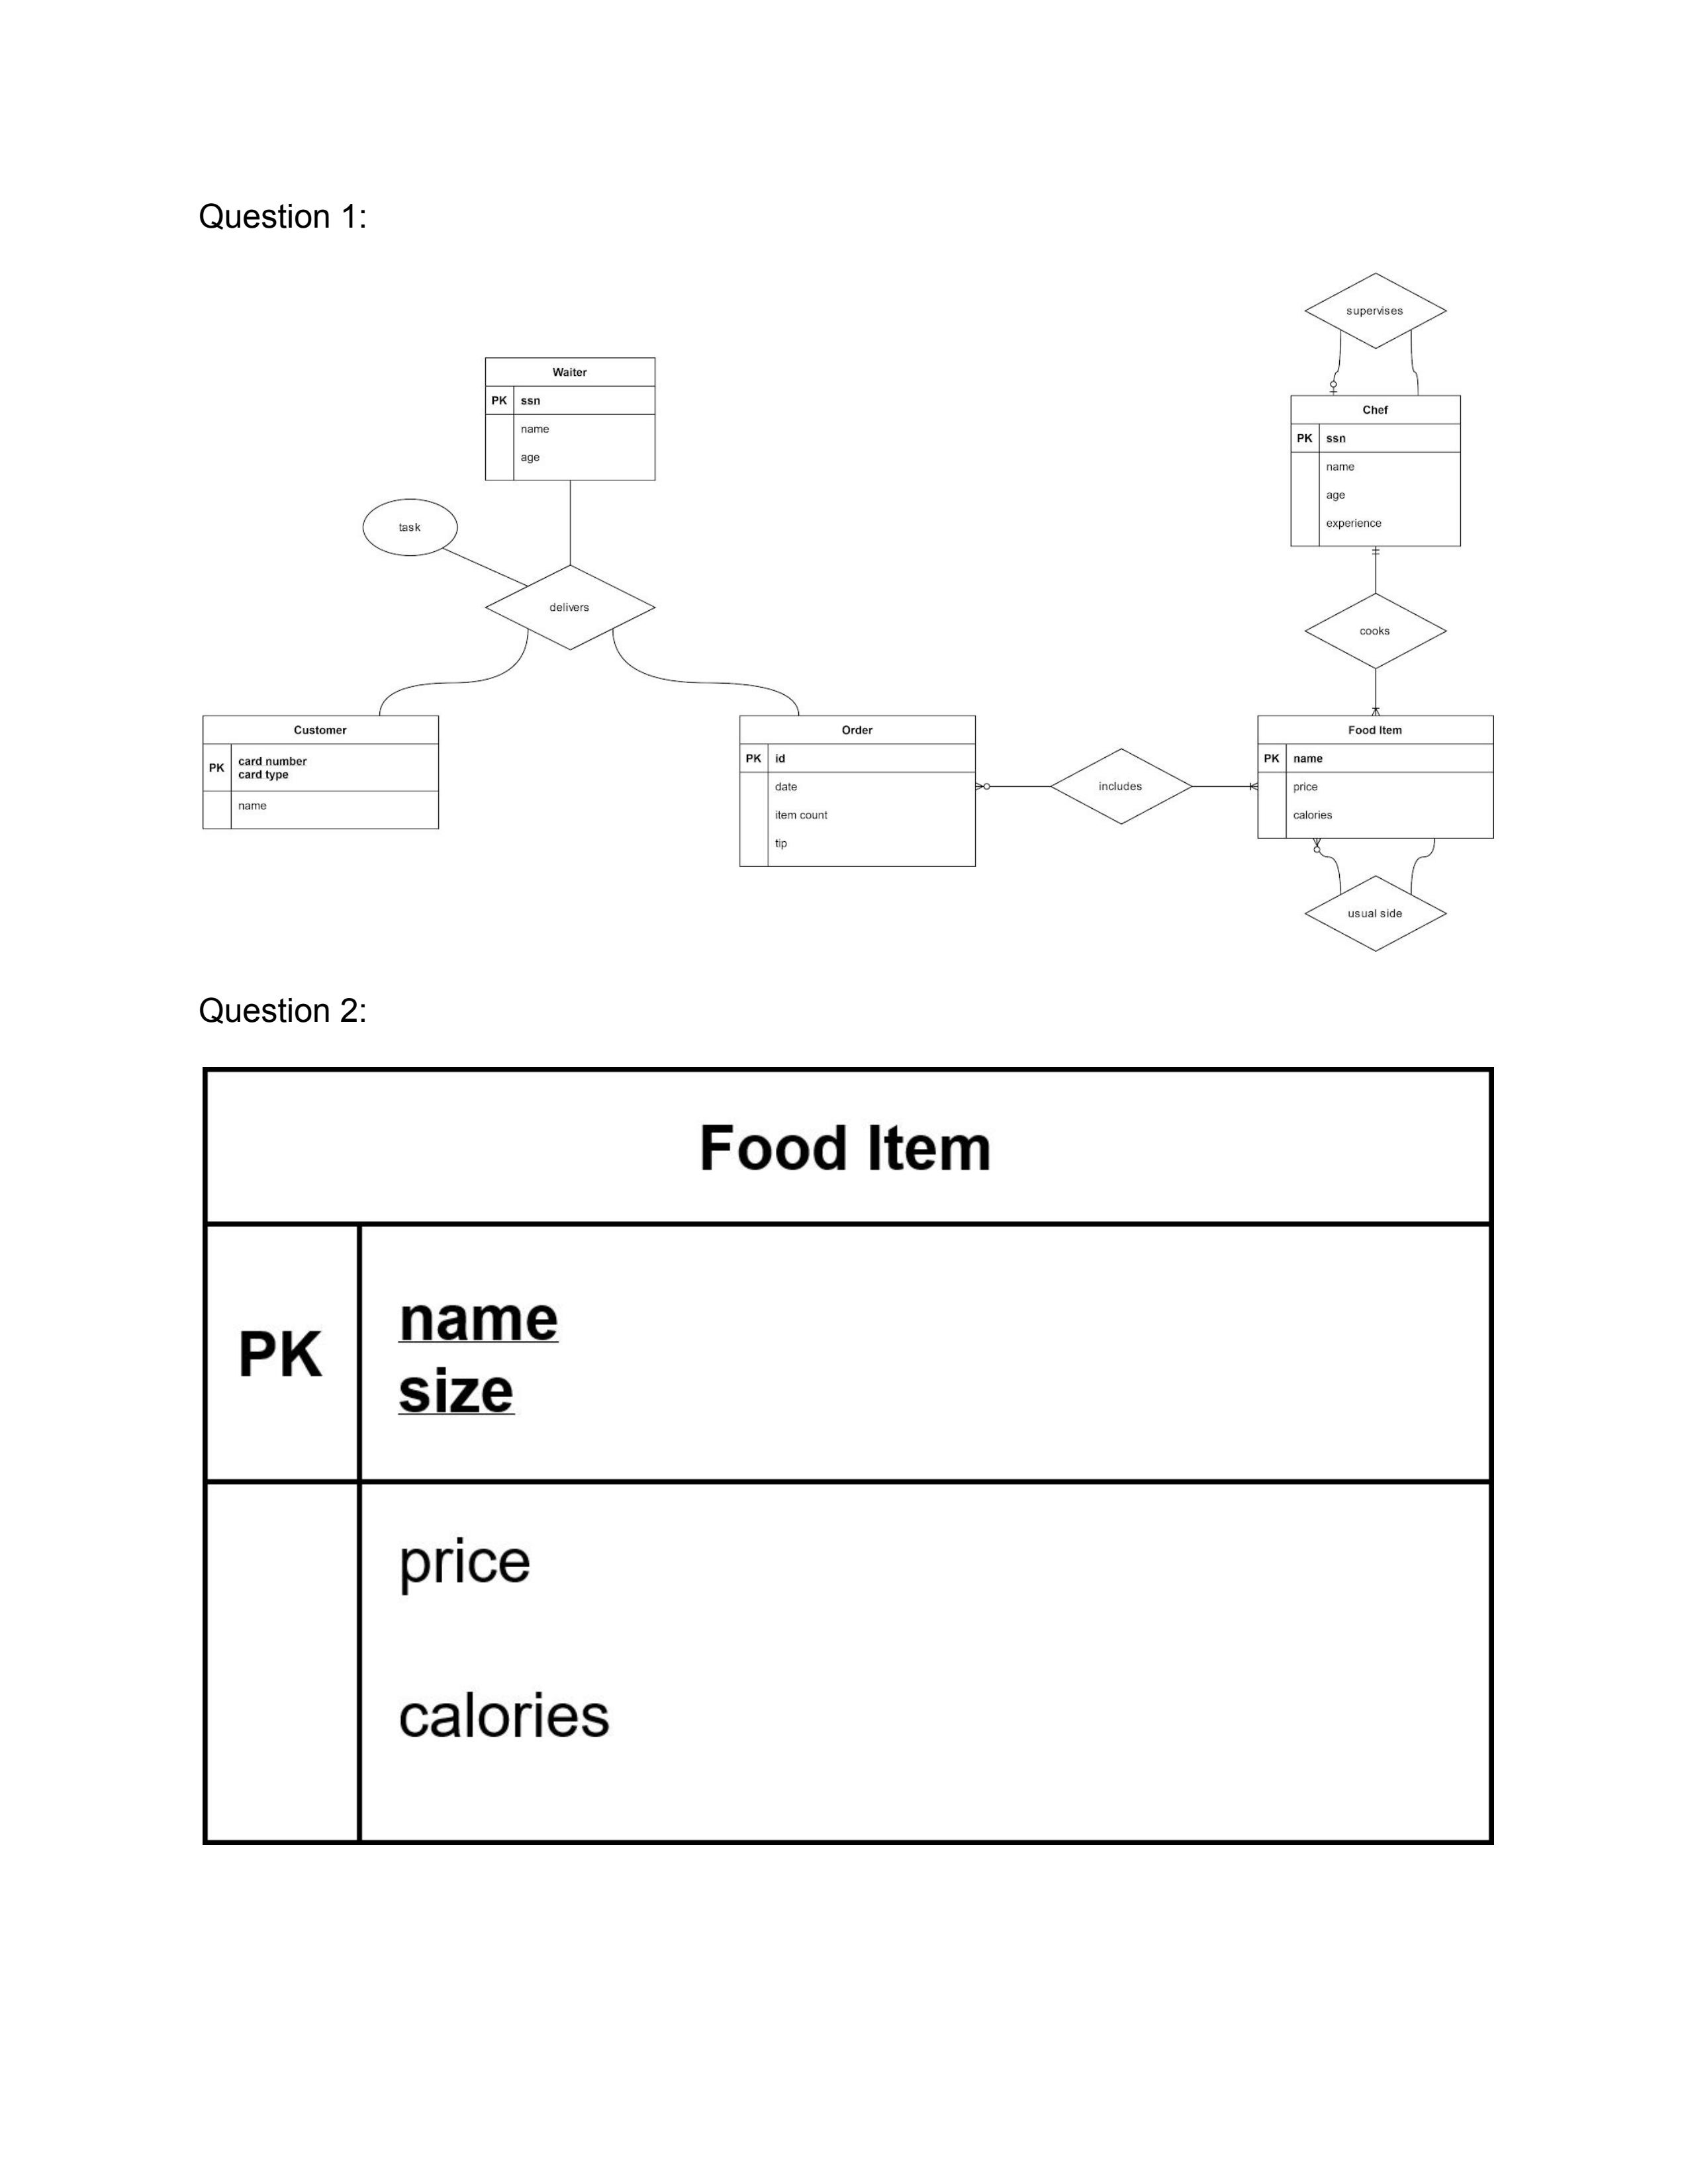Attribute: (363, 498, 457, 557)
Entity: (199, 1065, 1498, 1842), (739, 714, 977, 869), (1257, 714, 1497, 840), (202, 714, 440, 831), (1289, 395, 1463, 548), (484, 356, 656, 480)
Relationship: (484, 565, 656, 651), (1305, 271, 1449, 349), (1050, 746, 1192, 824), (1303, 876, 1447, 952), (1305, 594, 1447, 668)
